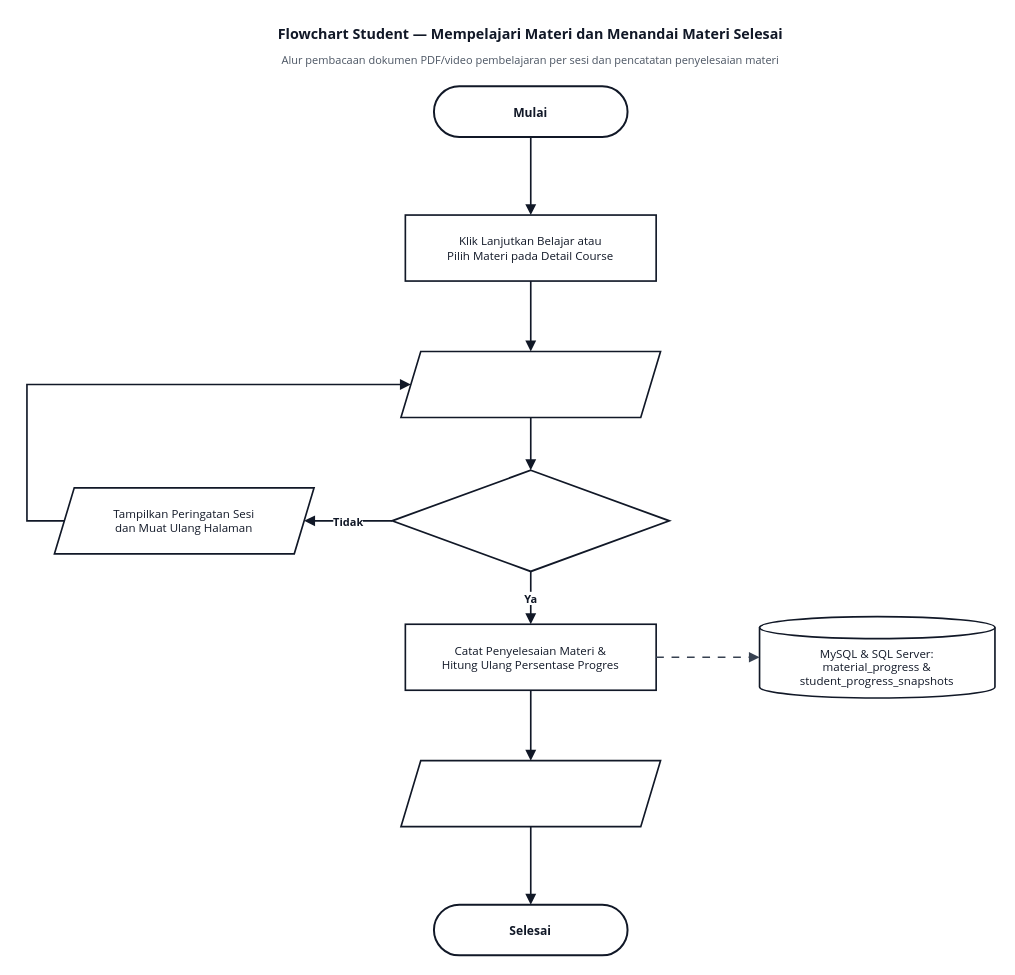
Image size: 1015x975. Some labels were removed from this diagram. Each missing label, with the centre of its shape:
"Pelajari Konten PDF / Video / Teks lalu Klik Tombol Tandai Selesai" belongs at point 530,384.
"Perbarui Indikator Progres Course & Buka Materi Berikutnya" belongs at point 530,793.
"Token CSRF & Akses Materi Valid?" belongs at point 530,520.
